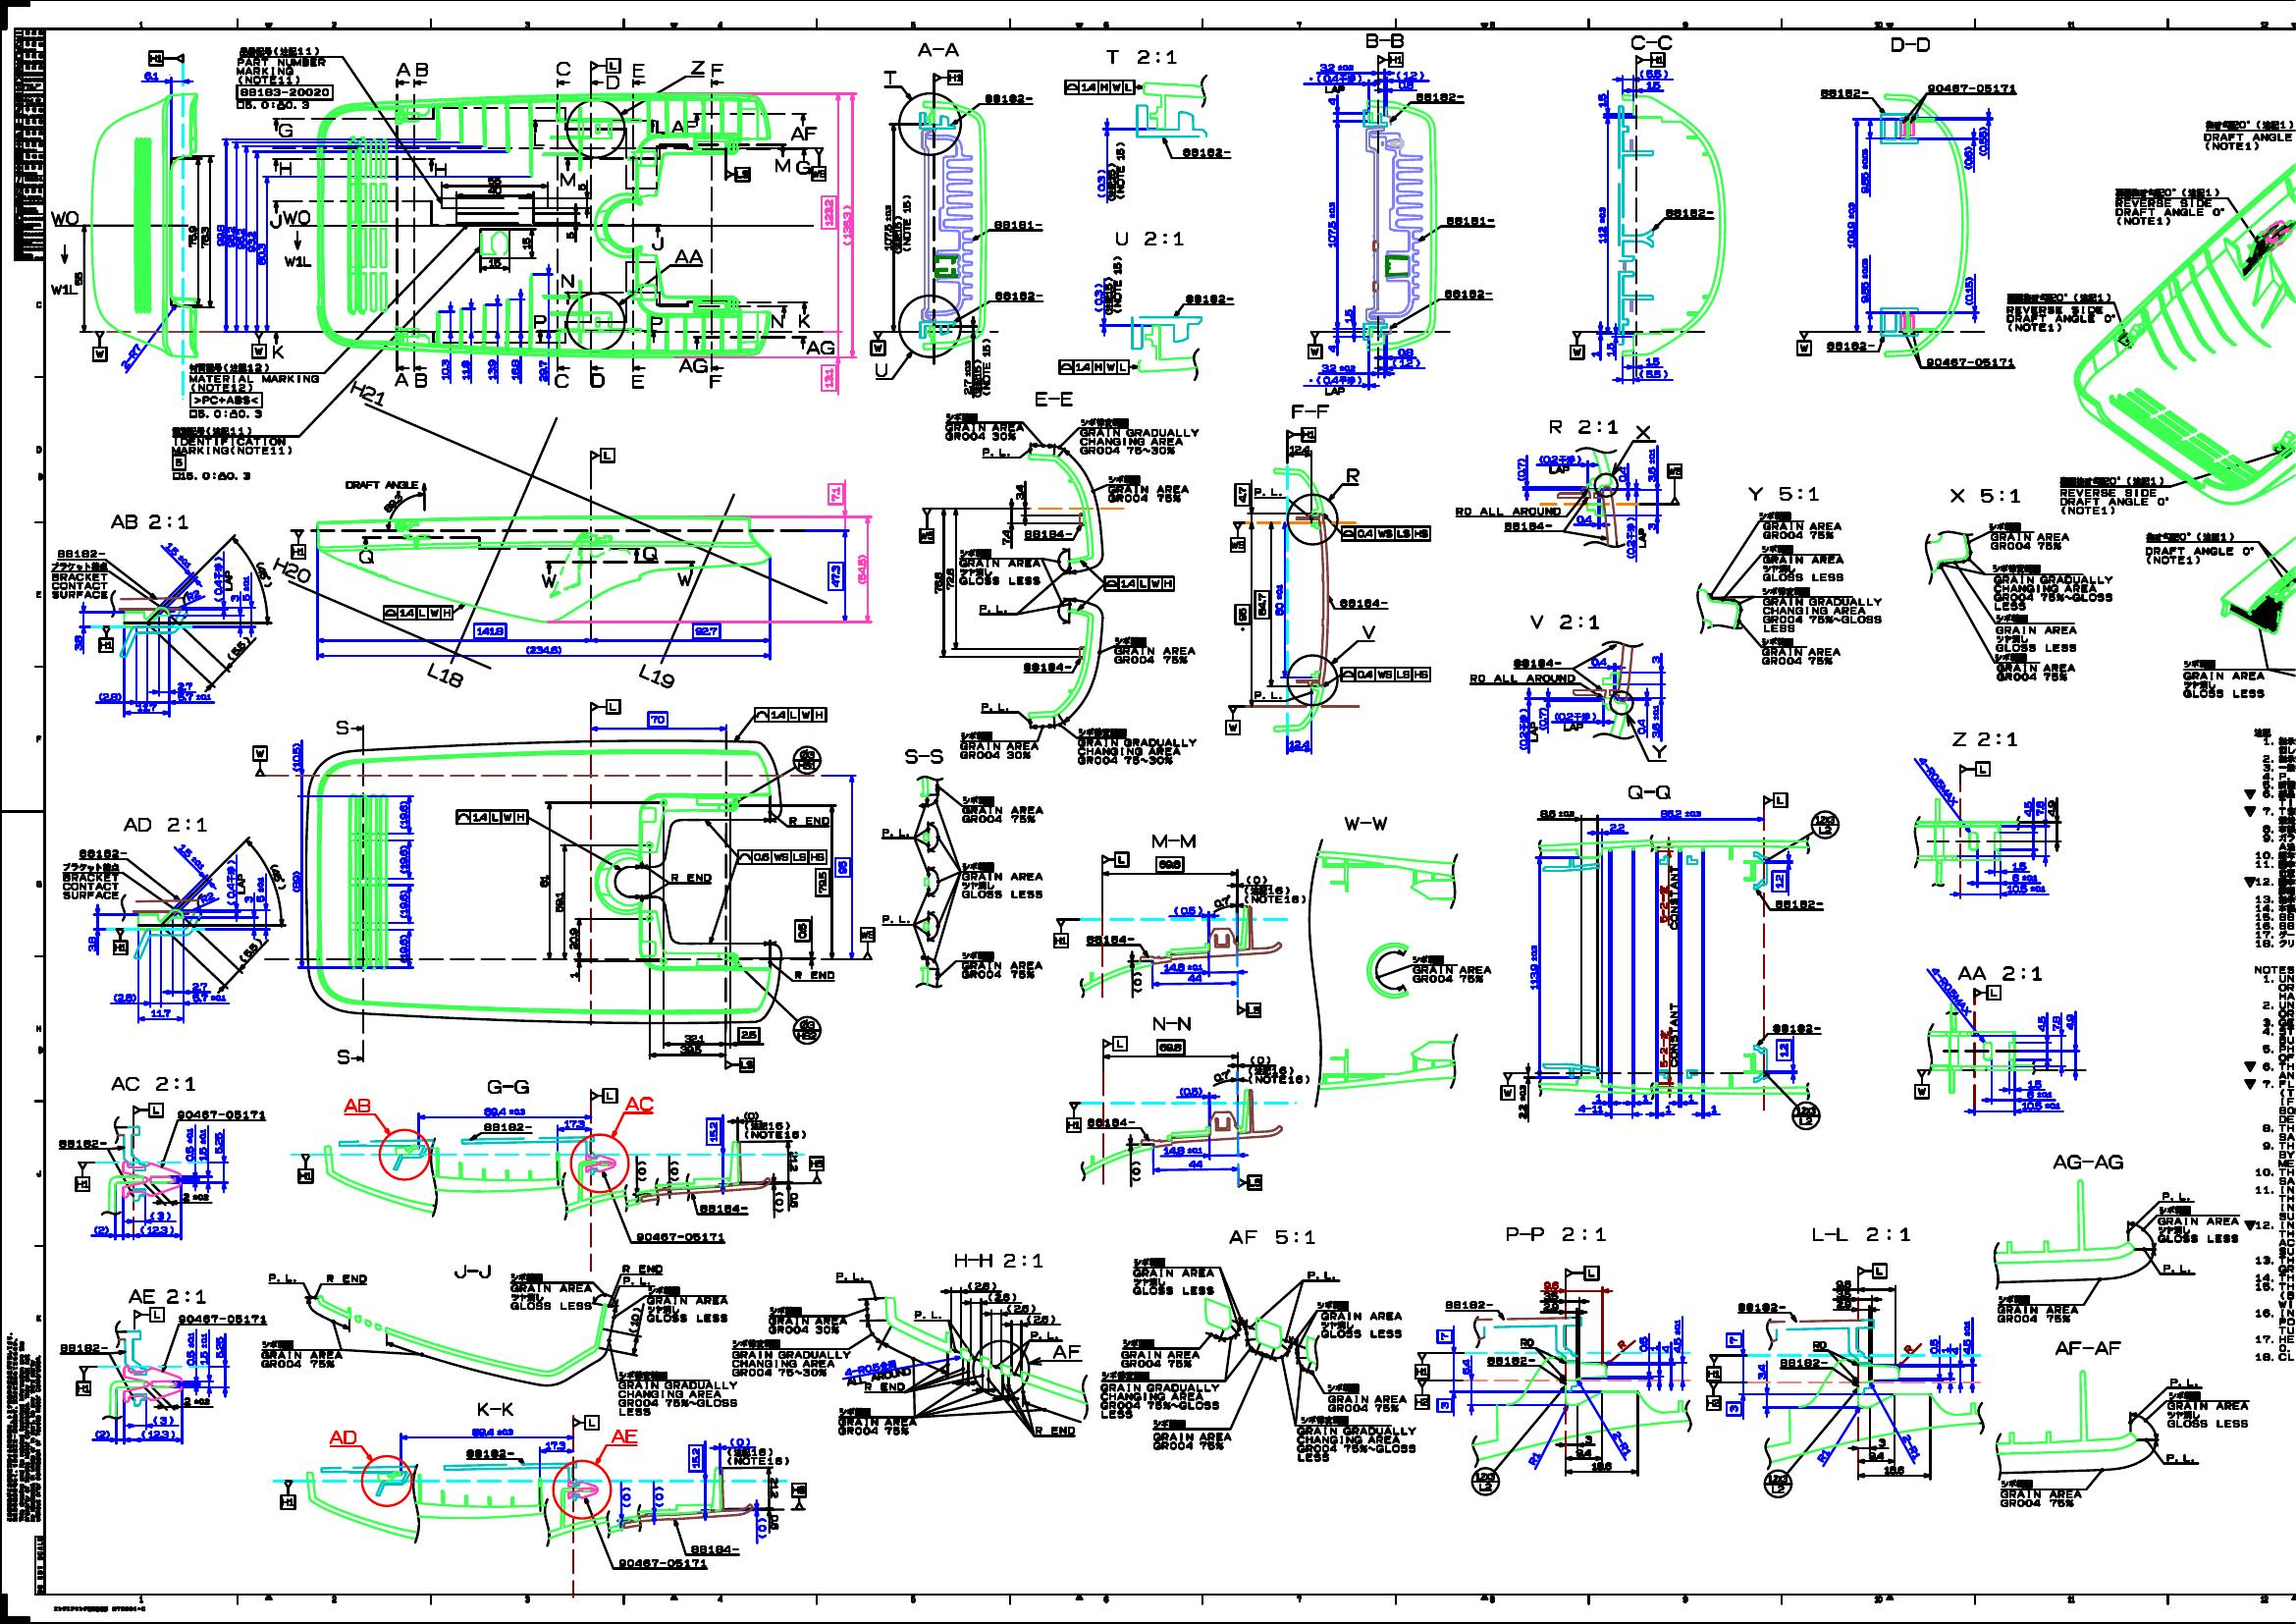anntotation_text: (188, 362, 321, 418), (170, 424, 295, 482), (4, 1329, 40, 1522), (234, 46, 336, 107), (1100, 1371, 1223, 1420), (1760, 585, 1885, 633), (1992, 564, 2113, 612), (618, 1369, 740, 1417), (1296, 1415, 1418, 1461), (1075, 726, 1203, 766), (1079, 417, 1200, 455), (2006, 292, 2117, 332), (2059, 475, 2170, 515), (733, 1339, 850, 1376), (2113, 186, 2224, 225), (2145, 531, 2256, 564), (511, 1271, 592, 1311), (1760, 543, 1845, 582), (2182, 659, 2266, 698), (961, 861, 1045, 900), (2166, 1390, 2250, 1429), (1133, 1257, 1216, 1295), (1994, 613, 2076, 652), (1316, 1301, 1402, 1338), (957, 548, 1042, 585), (2157, 1206, 2240, 1243), (646, 1287, 729, 1323), (2203, 120, 2296, 151), (47, 207, 79, 295), (1151, 1418, 1233, 1452), (1758, 510, 1841, 541), (1758, 634, 1841, 666), (959, 949, 1042, 981), (1114, 634, 1198, 664), (1999, 1478, 2083, 1508), (1107, 473, 1189, 503), (1994, 652, 2076, 682), (963, 794, 1045, 824), (959, 729, 1040, 759), (1119, 1338, 1200, 1367), (1412, 954, 1493, 984), (260, 1339, 344, 1367), (769, 1306, 848, 1336), (942, 411, 1024, 439), (1989, 522, 2071, 550), (1997, 1294, 2080, 1322), (1326, 1383, 1407, 1411), (49, 561, 107, 599), (61, 861, 119, 900), (838, 1408, 917, 1436), (281, 209, 313, 269), (1809, 1225, 1913, 1243), (1504, 1225, 1606, 1243), (1228, 1227, 1316, 1246), (1957, 963, 2043, 982), (954, 1251, 1043, 1269), (1946, 487, 2025, 506), (121, 816, 207, 833), (1746, 485, 1822, 504), (1658, 1000, 1679, 1069), (109, 513, 190, 531), (845, 1360, 912, 1381), (1658, 865, 1679, 932), (1528, 613, 1600, 633), (738, 849, 826, 865), (111, 1076, 197, 1091), (128, 1287, 206, 1304), (2050, 1153, 2126, 1171), (1549, 417, 1618, 436), (1340, 526, 1432, 540), (1307, 374, 1363, 397), (1105, 47, 1177, 65), (1340, 666, 1430, 680), (1242, 886, 1307, 905), (1114, 228, 1184, 246), (1103, 575, 1173, 592), (1247, 1065, 1310, 1084), (743, 1120, 806, 1139), (1950, 731, 2018, 749), (892, 193, 912, 255), (727, 1446, 789, 1466), (1309, 72, 1363, 93), (1058, 359, 1130, 374), (754, 707, 826, 722), (1470, 673, 1578, 684), (1925, 83, 2017, 95), (1103, 255, 1123, 313), (383, 605, 453, 620), (1455, 506, 1560, 517), (2054, 1339, 2124, 1355), (636, 1230, 724, 1243), (973, 337, 991, 397), (1107, 141, 1124, 200), (455, 808, 529, 823), (1790, 1100, 1822, 1132), (1065, 79, 1133, 93), (792, 1014, 824, 1044), (791, 743, 822, 773), (1809, 808, 1839, 840), (176, 1109, 265, 1120), (1518, 707, 1539, 750), (618, 1557, 706, 1568), (1625, 517, 1648, 557), (227, 858, 246, 905), (1764, 1468, 1794, 1497), (1470, 1466, 1500, 1496), (1555, 710, 1597, 731), (915, 40, 961, 60), (213, 555, 232, 601), (1149, 831, 1198, 849), (53, 1605, 146, 1613), (1539, 455, 1581, 475), (344, 478, 420, 489), (1925, 357, 2015, 366), (422, 666, 466, 684), (1888, 35, 1932, 53), (487, 1077, 531, 1095), (179, 1313, 267, 1322), (1363, 32, 1405, 49), (1630, 33, 1672, 51), (33, 1534, 46, 1594), (1344, 816, 1390, 831), (1625, 784, 1671, 800), (1446, 214, 1497, 228), (1442, 285, 1493, 299), (1289, 402, 1330, 420), (1151, 1014, 1191, 1032), (271, 562, 314, 578), (632, 668, 676, 684), (1918, 986, 1983, 997), (1906, 777, 1969, 787), (1033, 388, 1073, 404), (1180, 146, 1231, 158), (1414, 90, 1465, 102), (476, 1401, 515, 1417), (905, 749, 943, 765), (453, 1262, 492, 1278), (1186, 292, 1235, 304), (1737, 1301, 1787, 1313), (466, 1446, 515, 1459), (1087, 1116, 1137, 1128), (673, 248, 706, 265), (350, 385, 386, 401), (1667, 464, 1681, 504), (148, 49, 183, 65), (1052, 917, 1070, 949), (697, 1202, 750, 1213), (1101, 849, 1130, 868), (323, 1272, 367, 1285), (994, 290, 1045, 301), (982, 93, 1033, 104), (1339, 598, 1390, 608), (1513, 657, 1563, 668), (1022, 661, 1073, 671), (1780, 1357, 1830, 1367), (1086, 933, 1137, 944), (1773, 1023, 1823, 1033), (919, 508, 935, 541), (859, 926, 875, 960), (1286, 425, 1316, 443), (678, 355, 708, 373), (1913, 1069, 1931, 1098), (297, 1153, 314, 1183), (993, 218, 1042, 228), (1024, 529, 1073, 540), (56, 548, 105, 559), (1486, 1355, 1535, 1366), (690, 1543, 740, 1554), (1820, 88, 1869, 98), (1504, 520, 1553, 531), (620, 1262, 662, 1274), (483, 1121, 532, 1132), (58, 1139, 107, 1149), (60, 1343, 109, 1353), (805, 339, 836, 355), (1230, 520, 1245, 552), (253, 743, 269, 775), (1857, 1262, 1888, 1278), (1051, 1343, 1082, 1359), (1827, 339, 1874, 350), (1959, 761, 1990, 777), (132, 1102, 163, 1118), (132, 1306, 163, 1322), (1565, 1265, 1600, 1280), (611, 1427, 639, 1445), (933, 69, 963, 84), (1706, 1380, 1722, 1410), (327, 1429, 357, 1445), (590, 56, 620, 72), (1635, 51, 1665, 67), (1569, 330, 1585, 360), (279, 1480, 295, 1510), (624, 1095, 653, 1111), (74, 1162, 90, 1192), (812, 148, 826, 181), (789, 127, 815, 144), (792, 968, 836, 979), (669, 872, 713, 882), (1773, 900, 1825, 909), (77, 849, 128, 858), (1224, 707, 1240, 735), (1706, 1353, 1722, 1381), (1033, 1425, 1075, 1436), (93, 330, 107, 362), (1307, 330, 1323, 359), (787, 816, 829, 826), (1973, 984, 2001, 1000), (808, 1155, 824, 1183), (343, 1098, 371, 1114), (1446, 1301, 1495, 1309), (673, 118, 697, 135), (1665, 207, 1715, 216), (864, 1381, 905, 1392), (292, 529, 306, 559), (724, 1058, 754, 1072), (1414, 1380, 1428, 1410), (590, 700, 620, 714), (1066, 1102, 1080, 1132), (98, 626, 114, 652), (112, 928, 128, 954), (1414, 1352, 1430, 1378), (791, 1483, 806, 1510), (1377, 53, 1404, 69), (1762, 791, 1788, 807), (1500, 1072, 1514, 1100), (76, 1366, 90, 1394), (834, 1271, 866, 1283), (573, 1415, 599, 1429), (251, 330, 265, 357), (1797, 330, 1811, 357), (590, 1088, 617, 1102), (1028, 1329, 1058, 1341), (882, 826, 912, 838), (267, 1271, 297, 1283), (1103, 1035, 1126, 1051), (1238, 1174, 1261, 1190), (726, 167, 750, 181), (870, 330, 884, 355), (590, 448, 615, 462), (650, 116, 668, 135), (980, 446, 1012, 457), (977, 603, 1008, 613), (2164, 1452, 2196, 1462), (880, 914, 912, 924), (2168, 1376, 2199, 1387), (980, 701, 1010, 712), (1307, 1269, 1337, 1280), (913, 1309, 943, 1320), (2161, 1190, 2191, 1200), (2162, 1264, 2192, 1274), (882, 70, 899, 88), (641, 545, 659, 562), (269, 344, 286, 362), (1254, 487, 1282, 497), (1254, 689, 1282, 700), (622, 1274, 650, 1285), (775, 156, 791, 174), (796, 160, 812, 178), (873, 362, 889, 380), (1360, 624, 1377, 640), (539, 573, 557, 589), (357, 548, 374, 564), (336, 1048, 351, 1065), (413, 371, 429, 388), (531, 313, 546, 330), (559, 272, 574, 290), (553, 371, 569, 388), (588, 371, 604, 388), (629, 373, 645, 390), (648, 315, 664, 332), (604, 74, 620, 91), (631, 62, 646, 79), (708, 60, 724, 77), (769, 313, 785, 330), (796, 313, 812, 330), (267, 213, 283, 230), (279, 120, 295, 137), (555, 60, 573, 76), (413, 60, 429, 77), (432, 162, 448, 179), (1651, 743, 1667, 759), (393, 371, 409, 387), (708, 373, 724, 388), (648, 237, 664, 253), (690, 60, 706, 76), (278, 160, 293, 176), (395, 62, 411, 77), (1634, 424, 1650, 439), (675, 571, 692, 585), (560, 170, 574, 188), (1346, 468, 1360, 483), (336, 719, 350, 735)
dimension_text: (820, 195, 838, 228), (827, 561, 845, 591), (1860, 148, 1871, 195), (1156, 856, 1184, 874), (1156, 1039, 1184, 1056), (882, 204, 892, 250), (1326, 202, 1337, 248), (1528, 944, 1539, 990), (690, 624, 720, 640), (473, 624, 506, 638), (704, 1118, 722, 1144), (471, 1425, 515, 1436), (820, 364, 836, 392), (815, 868, 831, 896), (191, 991, 227, 1004), (1163, 961, 1203, 972), (1254, 589, 1268, 619), (689, 1445, 704, 1471), (1860, 257, 1869, 304), (1846, 200, 1855, 248), (1597, 206, 1607, 244), (827, 482, 845, 504), (963, 359, 973, 395), (1539, 808, 1576, 819), (856, 554, 868, 585), (525, 645, 562, 656), (483, 1107, 527, 1116), (841, 204, 850, 246), (1321, 362, 1356, 373), (1319, 62, 1354, 72), (139, 1225, 174, 1236), (184, 1127, 195, 1162), (1962, 1318, 1973, 1353), (1237, 1002, 1260, 1018), (1776, 1039, 1792, 1062), (2006, 884, 2047, 893), (1660, 808, 1700, 817), (174, 851, 207, 861), (162, 548, 195, 559), (2022, 1102, 2061, 1111), (834, 856, 850, 877), (794, 919, 810, 940), (738, 1026, 759, 1042), (1606, 1438, 1637, 1448), (1773, 870, 1788, 891), (1274, 584, 1284, 615), (1235, 482, 1249, 504), (235, 946, 265, 956), (399, 800, 409, 830), (1173, 905, 1203, 916), (987, 1292, 1017, 1302), (966, 1280, 996, 1290), (1978, 127, 1989, 156), (1639, 69, 1669, 79), (1093, 283, 1103, 313), (1897, 1441, 1927, 1452), (223, 643, 253, 654), (1672, 1318, 1681, 1353), (199, 1127, 207, 1162), (1518, 1083, 1527, 1118), (648, 712, 668, 728), (1007, 1302, 1035, 1313), (1639, 369, 1667, 380), (181, 1192, 209, 1202), (183, 1396, 211, 1406), (1651, 705, 1660, 738), (186, 1332, 195, 1366), (1648, 448, 1657, 482), (177, 692, 211, 701), (141, 1429, 174, 1438), (1163, 1146, 1203, 1153), (272, 863, 283, 889), (379, 497, 406, 508), (1964, 274, 1973, 306), (199, 1332, 207, 1364), (2025, 1090, 2052, 1100), (258, 561, 269, 587), (399, 844, 408, 874), (292, 742, 300, 772), (1026, 1313, 1056, 1322), (1391, 359, 1421, 367), (116, 352, 146, 360), (112, 993, 137, 1004), (292, 868, 302, 893), (669, 1158, 680, 1183), (636, 1160, 648, 1181), (629, 1308, 639, 1332), (213, 1130, 223, 1155), (1516, 457, 1527, 482), (399, 935, 408, 963), (399, 889, 408, 917), (1397, 70, 1425, 79), (1096, 169, 1105, 197), (2010, 874, 2038, 882), (1235, 605, 1249, 622), (569, 926, 580, 949), (564, 1118, 587, 1128), (653, 1485, 664, 1508), (214, 1336, 225, 1359), (1249, 1055, 1272, 1065), (98, 691, 121, 701), (538, 359, 548, 381), (1212, 895, 1231, 907), (755, 1519, 768, 1538), (1578, 1104, 1604, 1113), (241, 575, 249, 601), (620, 1487, 631, 1508), (149, 1007, 170, 1018), (1245, 874, 1267, 884), (1755, 1360, 1765, 1381), (1727, 1332, 1743, 1346), (1592, 1461, 1613, 1471), (1437, 1329, 1453, 1343), (773, 1192, 783, 1213), (769, 1476, 780, 1497), (545, 1439, 566, 1450), (1883, 1464, 1904, 1475), (460, 359, 471, 380), (487, 359, 497, 380), (153, 1415, 174, 1425), (256, 877, 265, 902), (1964, 146, 1973, 170), (2034, 800, 2047, 817), (1179, 1086, 1203, 1095), (2047, 798, 2057, 817), (1212, 1070, 1231, 1081), (1539, 707, 1548, 729), (555, 891, 564, 914), (729, 1438, 752, 1446), (149, 1211, 172, 1220), (933, 571, 942, 594), (945, 568, 954, 591), (188, 225, 197, 248), (216, 223, 225, 246), (227, 225, 235, 248), (1836, 1278, 1852, 1290), (680, 1044, 701, 1053), (683, 1033, 704, 1042), (1725, 1403, 1743, 1413), (1542, 1280, 1560, 1290), (1460, 1359, 1470, 1376), (743, 1109, 761, 1120), (2036, 1014, 2047, 1032), (2050, 1014, 2061, 1032), (2024, 800, 2034, 817), (1131, 1160, 1140, 1181), (1133, 972, 1142, 993), (237, 228, 246, 250), (441, 359, 450, 380), (511, 359, 520, 380), (1437, 1399, 1451, 1411), (789, 1151, 798, 1171), (1289, 740, 1309, 749), (1289, 445, 1309, 453), (137, 703, 156, 712), (487, 176, 502, 186), (1635, 717, 1646, 733), (86, 935, 97, 951), (190, 981, 206, 991), (1836, 1299, 1852, 1309), (1639, 1336, 1650, 1352), (769, 1513, 780, 1529), (93, 1225, 109, 1236), (1929, 1338, 1939, 1353), (2025, 1079, 2041, 1090), (2011, 861, 2027, 872), (72, 634, 83, 650), (200, 225, 207, 248), (248, 230, 255, 253), (258, 243, 265, 265), (1590, 657, 1607, 666), (1836, 1290, 1853, 1299), (1574, 1448, 1592, 1457), (1542, 1302, 1560, 1311), (1397, 348, 1414, 357), (2066, 1014, 2075, 1032), (184, 592, 202, 601), (1520, 1336, 1534, 1346), (1597, 93, 1607, 107), (1816, 1452, 1830, 1462), (144, 70, 158, 81), (487, 186, 502, 195), (1576, 515, 1592, 524), (199, 893, 214, 902), (539, 874, 548, 889), (1527, 1454, 1542, 1462), (1542, 1292, 1558, 1301), (789, 1192, 798, 1207), (1606, 341, 1614, 357), (1398, 81, 1414, 90), (1867, 1450, 1883, 1459), (1609, 823, 1625, 831), (1188, 1160, 1203, 1169), (1618, 466, 1627, 482), (1001, 529, 1010, 545), (1015, 483, 1024, 499), (177, 682, 193, 691), (95, 1429, 111, 1438), (1188, 974, 1202, 982), (1646, 357, 1660, 366), (1646, 81, 1660, 90), (1813, 1339, 1827, 1348), (1326, 343, 1337, 353), (1344, 308, 1351, 323), (1686, 1091, 1697, 1102), (1708, 1104, 1718, 1114), (522, 237, 531, 250), (74, 272, 83, 285), (488, 258, 501, 267), (578, 181, 587, 192), (564, 230, 574, 239), (1590, 350, 1600, 359), (1326, 97, 1337, 105), (228, 594, 239, 603), (1648, 522, 1657, 531), (1651, 656, 1660, 664), (244, 895, 253, 903), (569, 970, 578, 979), (1585, 1434, 1593, 1443), (1660, 1345, 1669, 1353), (1941, 1345, 1950, 1353), (1952, 1346, 1960, 1355), (1878, 1438, 1887, 1446), (1593, 1093, 1602, 1102), (1664, 1104, 1672, 1113), (1903, 1345, 1913, 1352), (1650, 1345, 1658, 1352), (1616, 1341, 1625, 1348), (1641, 1093, 1648, 1102)
object: (302, 736, 785, 1028), (314, 90, 773, 359), (2073, 160, 2296, 508), (1534, 838, 1813, 1098), (314, 513, 771, 627), (304, 1459, 757, 1543), (318, 1132, 775, 1214), (1312, 847, 1455, 1091), (304, 1292, 620, 1392), (1472, 1316, 1692, 1461), (1765, 1318, 1983, 1462), (1616, 90, 1730, 359), (88, 90, 200, 359), (864, 1295, 1086, 1422), (1876, 91, 1969, 359), (1024, 438, 1107, 729), (1360, 97, 1439, 353), (917, 98, 989, 352), (1082, 1086, 1282, 1176), (1079, 903, 1282, 991), (1997, 1367, 2159, 1475), (1994, 1176, 2155, 1283), (1272, 464, 1332, 735), (1925, 1000, 2034, 1093), (1913, 796, 2018, 884), (1203, 1297, 1318, 1374), (105, 1125, 181, 1218), (107, 1329, 183, 1420), (1569, 642, 1634, 740), (1556, 450, 1620, 547), (917, 775, 940, 990), (111, 596, 190, 657), (1133, 77, 1209, 141), (1130, 313, 1203, 374), (132, 898, 202, 960), (1695, 584, 1743, 633), (1925, 531, 1973, 573)
title_block: (12, 28, 46, 262)
